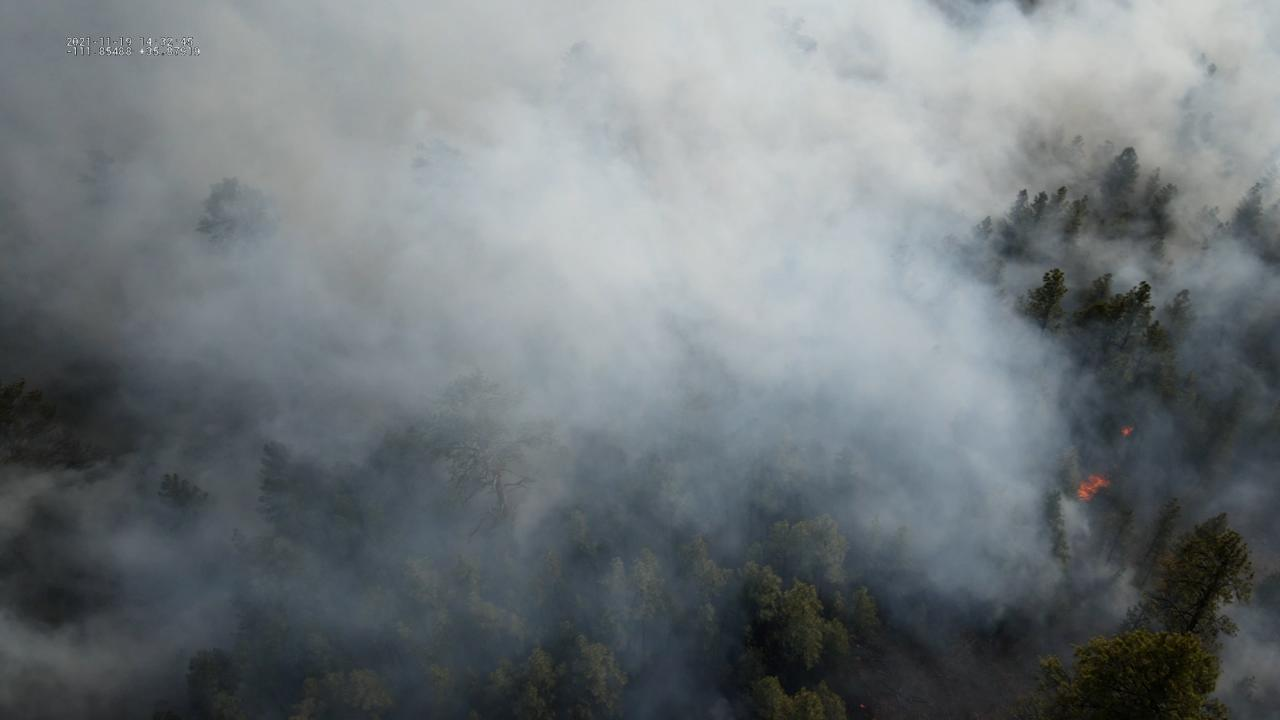fire: (1075, 473, 1112, 505), (1119, 425, 1134, 439)
smoke: (0, 0, 1280, 720)
